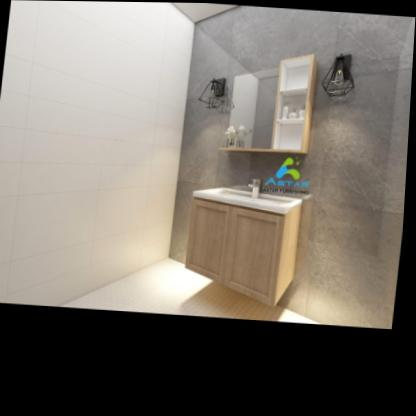Cabinet: (183, 194, 305, 308)
